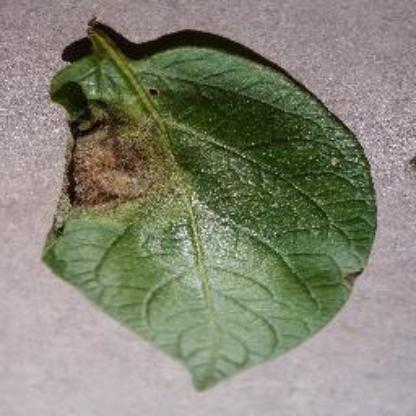Late-Blight: (33, 19, 387, 395)
